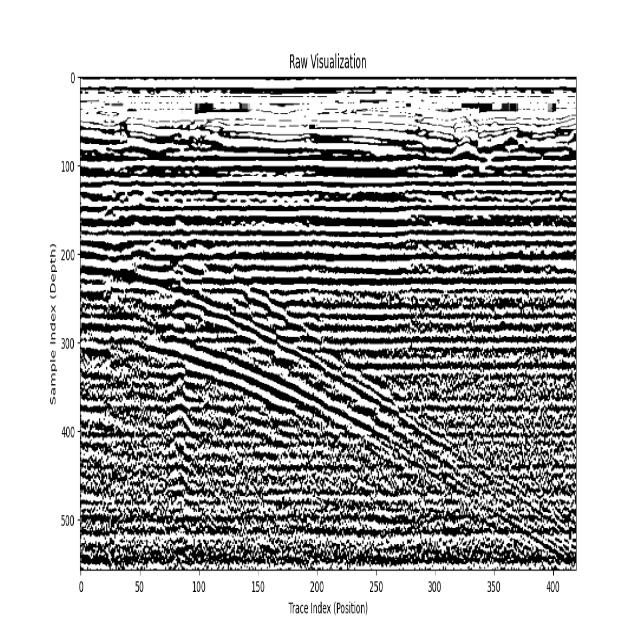anomaly: (178, 245, 575, 567)
